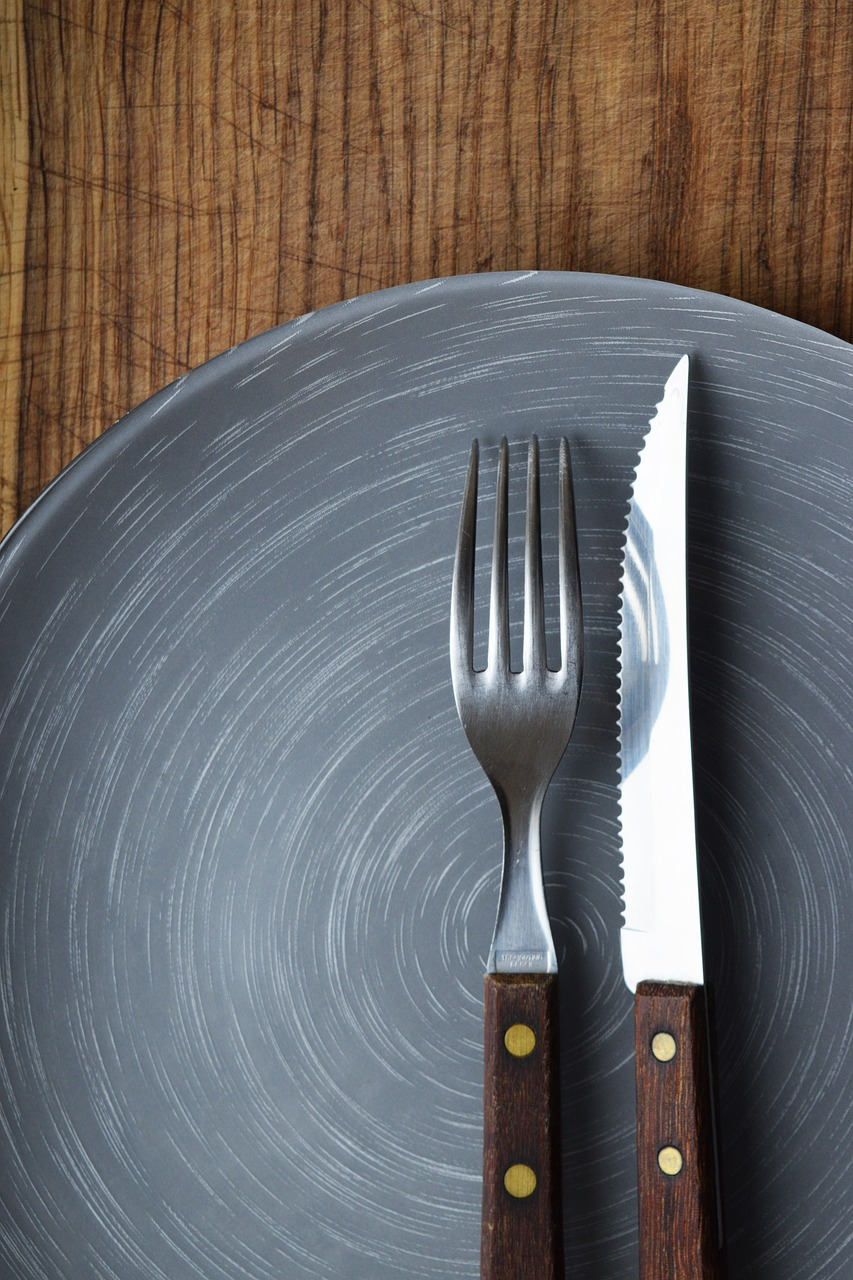knife: (606, 331, 718, 1280)
